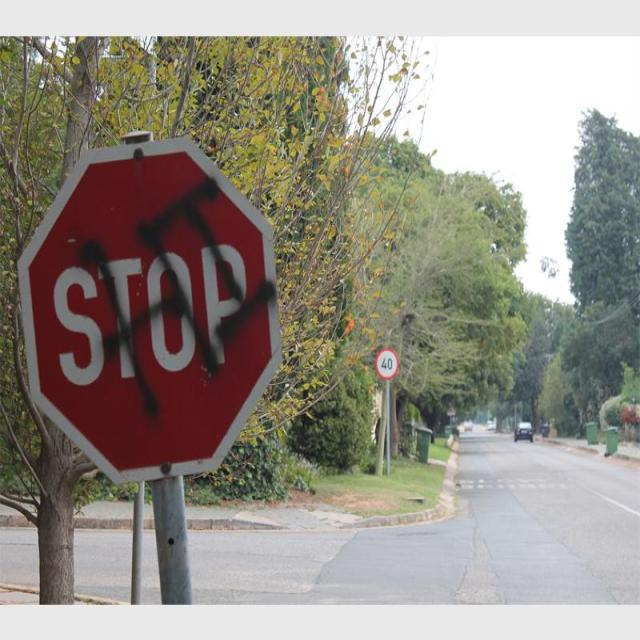Panneau-Stop: (22, 141, 286, 482)
